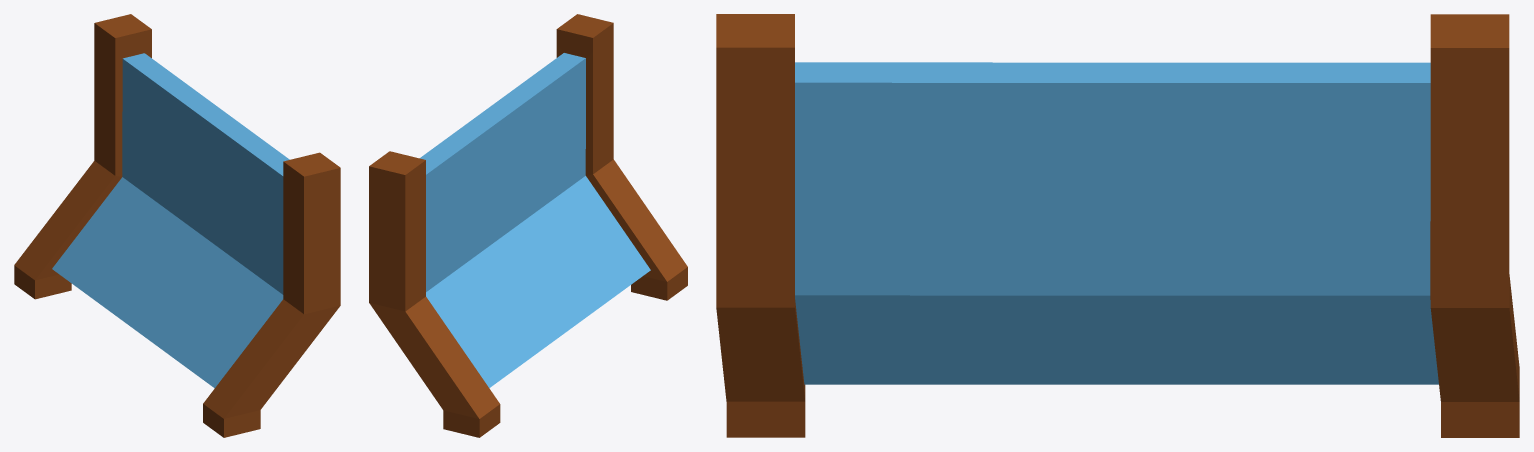
The model's file is parede .fbx.
3 views of the same model, side by side, from view 1: azimuth 30°, elevation 25°; view 2: azimuth 150°, elevation 25°; view 3: azimuth 270°, elevation 25° (orthographic). The views are drawn at different scales.
Visible parts, largest first — view 1: Level.001; view 2: Level.001; view 3: Level.001.
Part boxes in pixels (x1,y1,x2,y2): Level.001: (14,14,340,437); Level.001: (369,14,687,437); Level.001: (716,14,1519,437).
Size of the model in its own units: 315 by 642 by 1013.
